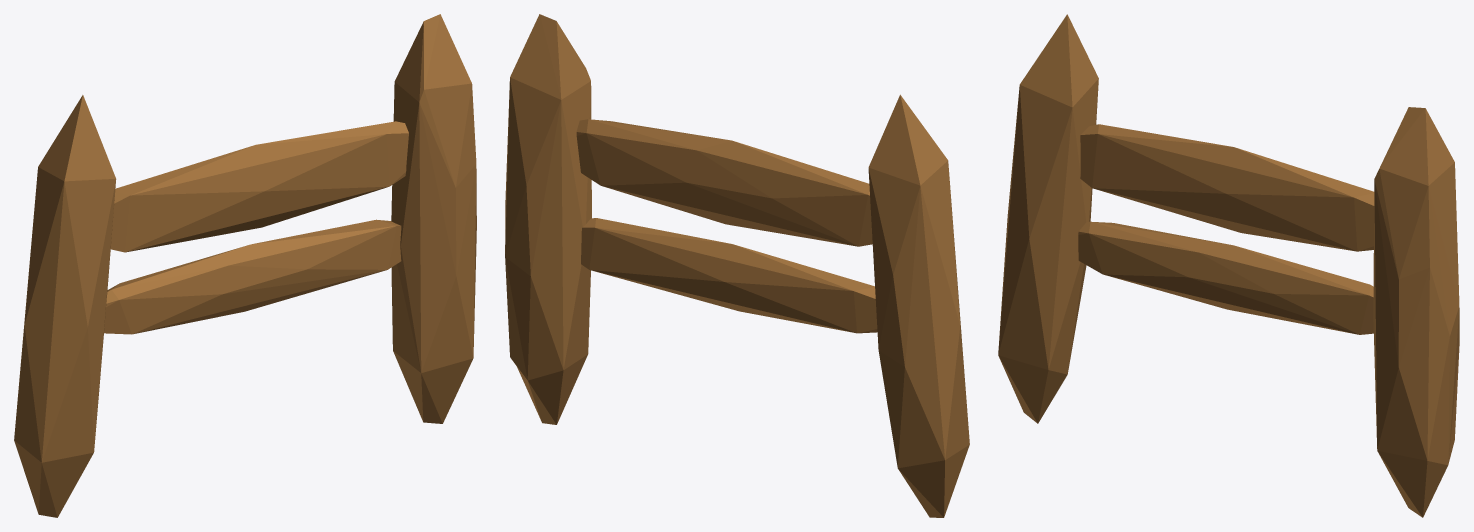
The model's file is Fence2.fbx.
3 renders of one model, left to right at view 1: azimuth 30°, elevation 25°; view 2: azimuth 150°, elevation 25°; view 3: azimuth 330°, elevation 25°, orthographic.
Parts seen in each view (by area): view 1: Cube.001; view 2: Cube.001; view 3: Cube.001.
Boxes of the visible parts, left/top/right/bottom form: Cube.001: left=14, top=14, right=476, bottom=517; Cube.001: left=505, top=14, right=969, bottom=517; Cube.001: left=998, top=14, right=1459, bottom=517.
Bounding box in the file's own units: 122 × 108 × 19.2.
